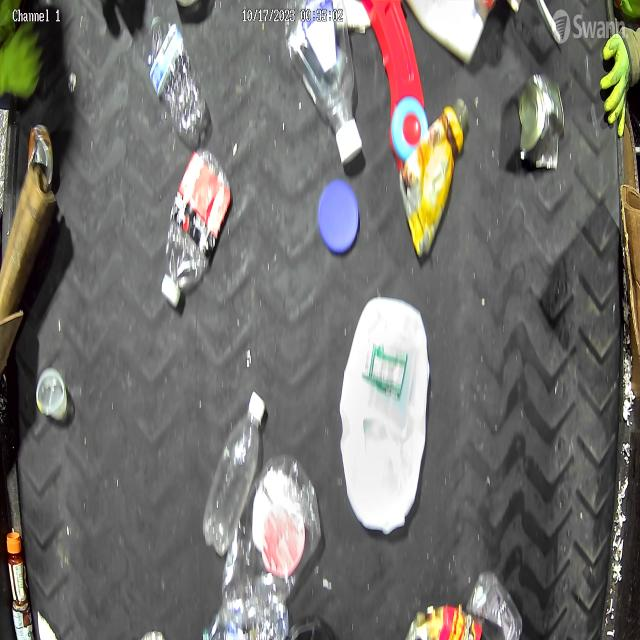can: (519, 71, 566, 171)
milk_jug: (339, 300, 429, 539)
plastic_bottle: (222, 454, 321, 605), (284, 0, 362, 164), (163, 143, 230, 307), (202, 389, 264, 560), (150, 12, 208, 144), (200, 595, 290, 640)
